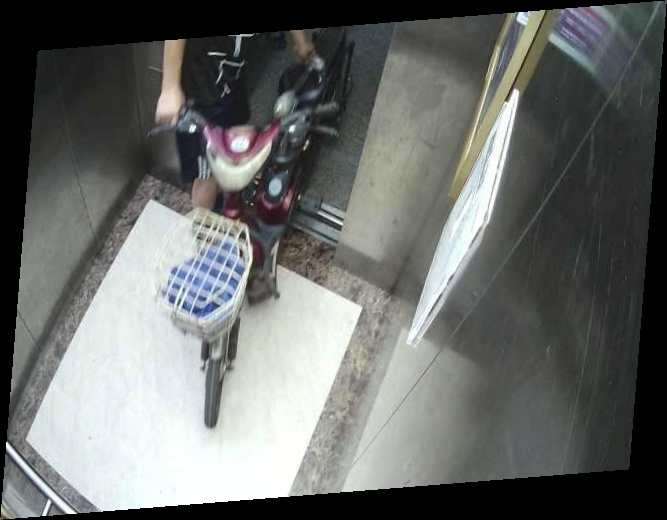electromobile: (165, 37, 372, 430)
